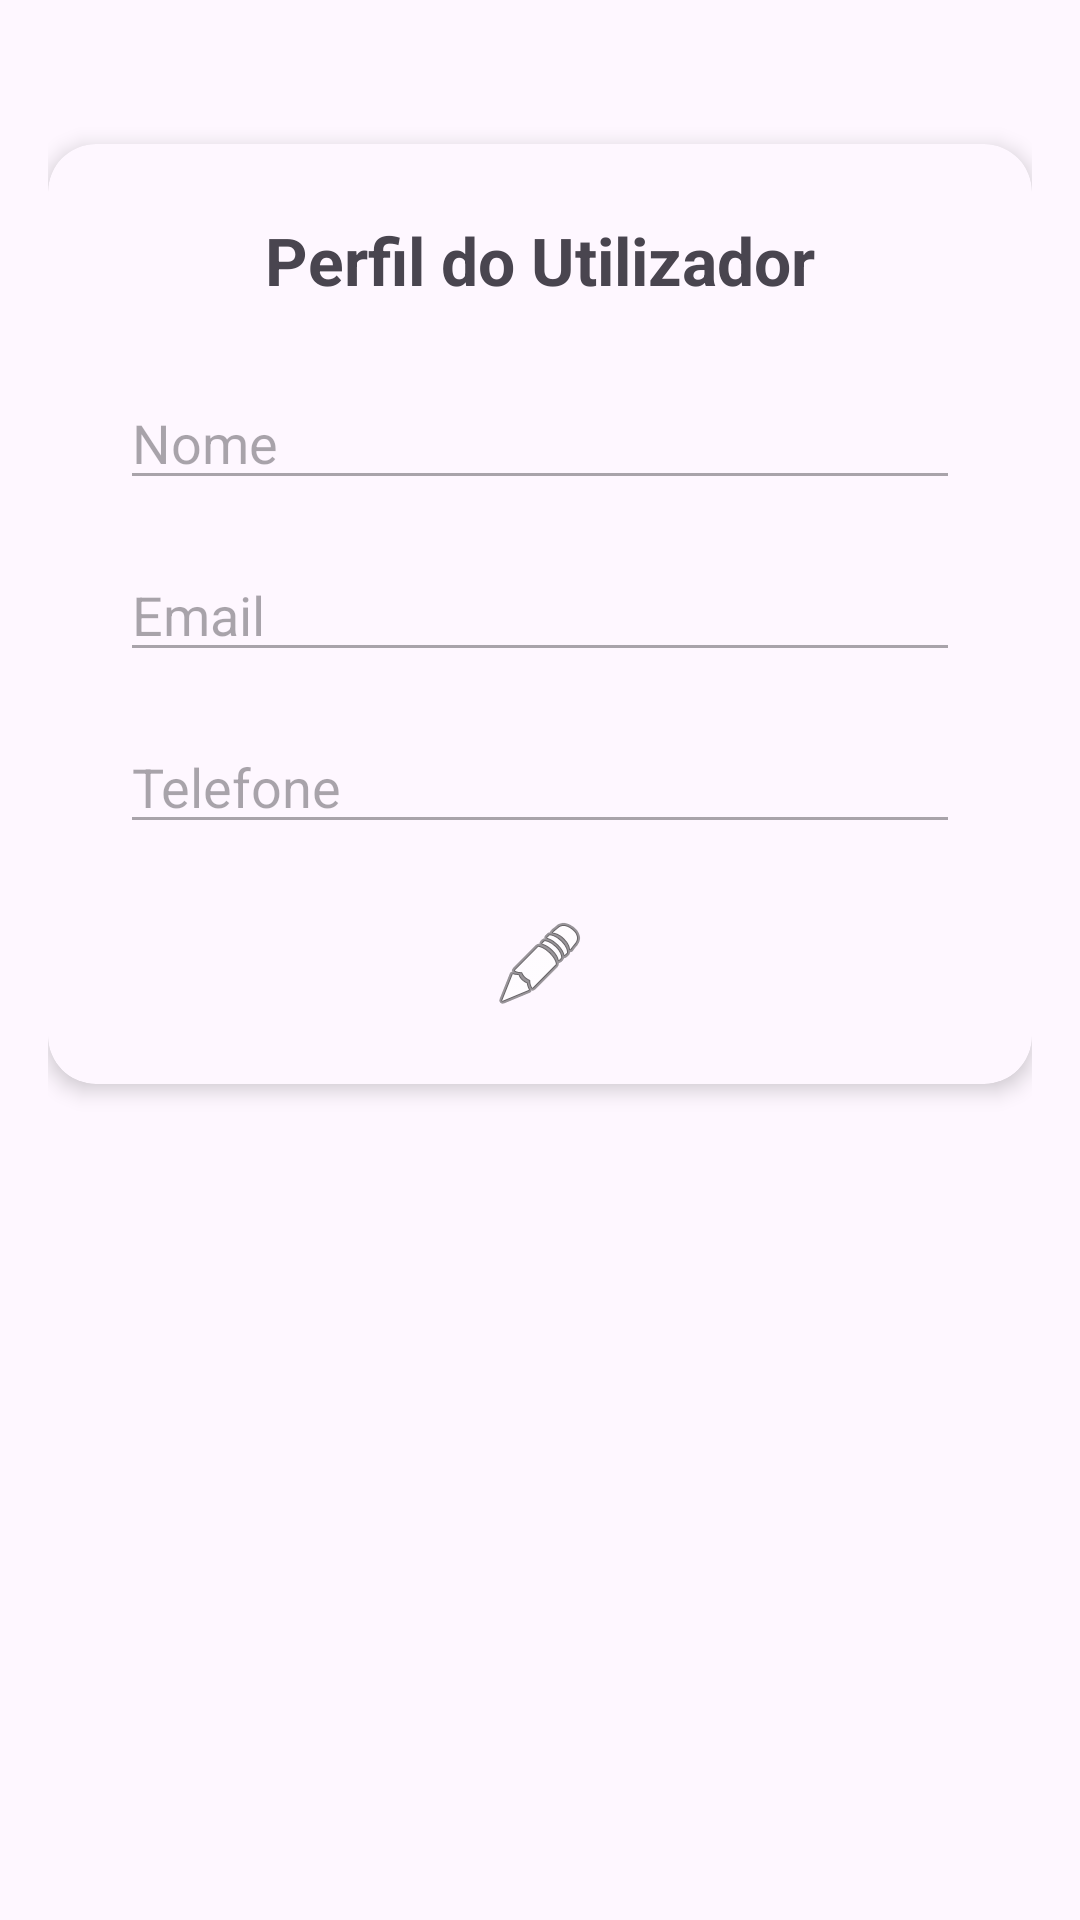

Icon bounding boxes for this 1080x1920 phone screenshot, format (x1, y1, x2, y2):
Editar: (499, 923, 580, 1004)
